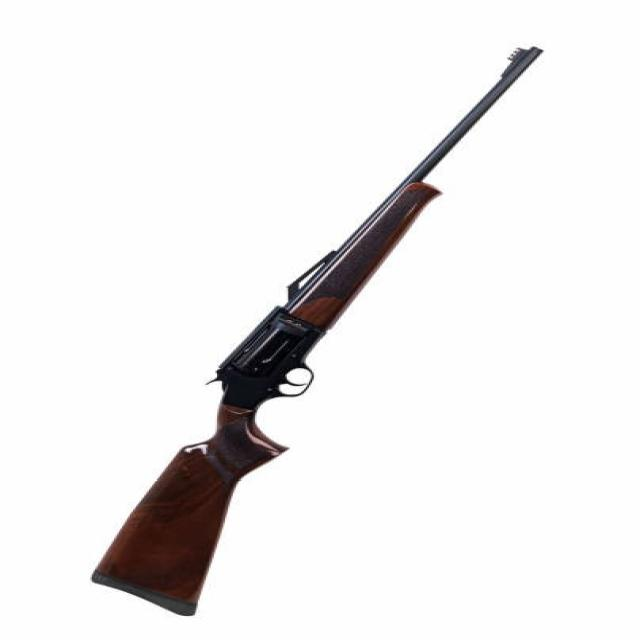rifle: (76, 42, 552, 628)
